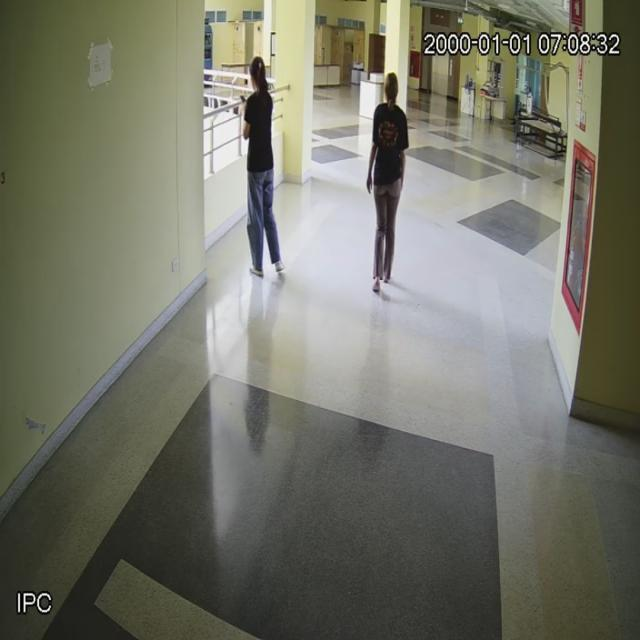normal: (241, 58, 285, 280), (368, 72, 406, 292)
